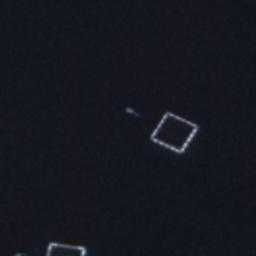square_solid: (145, 108, 204, 159), (42, 235, 90, 256)
